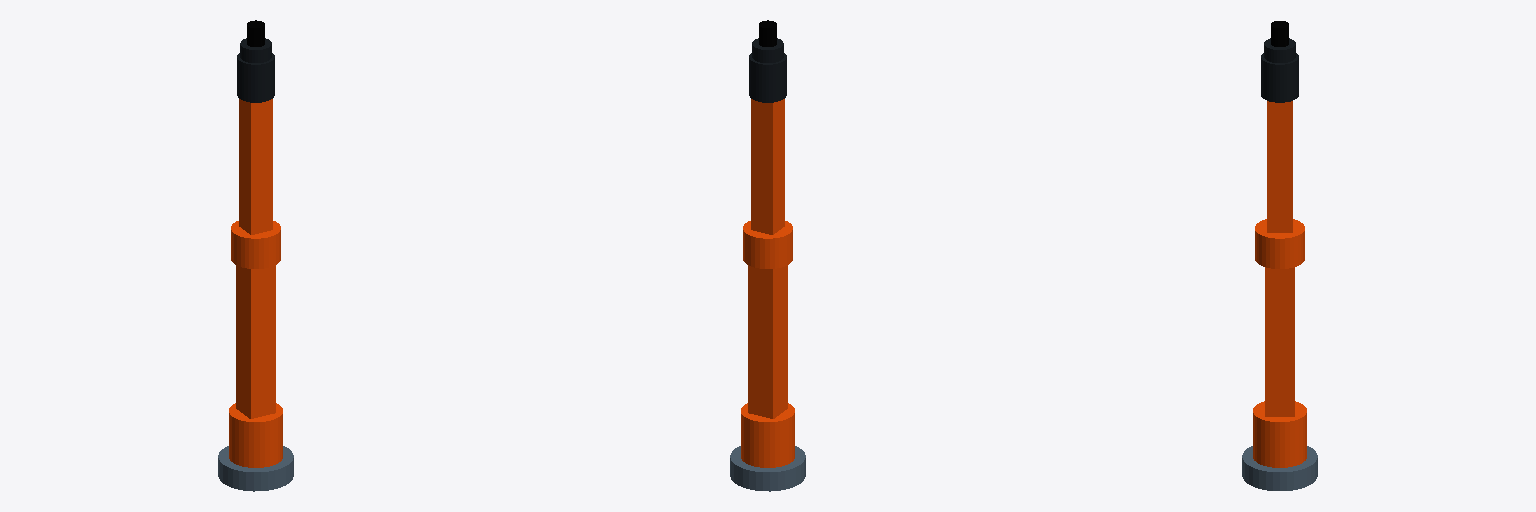
URDF robot description (robotic_arm):
<?xml version="1.0"?>

<robot name="robotic_arm">

  <!-- ========================================================= -->
  <!-- MATERIALS                                                  -->
  <!-- ========================================================= -->

  <material name="orange">
    <color rgba="0.95 0.35 0.05 1.0"/>
  </material>

  <material name="orange_dark">
    <color rgba="0.75 0.20 0.03 1.0"/>
  </material>

  <material name="yellow">
    <color rgba="0.95 0.75 0.05 1.0"/>
  </material>

  <material name="blue_gray">
    <color rgba="0.35 0.42 0.48 1.0"/>
  </material>

  <material name="dark_gray">
    <color rgba="0.12 0.14 0.16 1.0"/>
  </material>

  <material name="black">
    <color rgba="0.03 0.03 0.03 1.0"/>
  </material>


  <!-- ========================================================= -->
  <!-- BASE                                                       -->
  <!-- ========================================================= -->

  <link name="base_link">

    <visual>
      <origin xyz="0 0 0.05" rpy="0 0 0"/>
      <geometry>
        <cylinder radius="0.18" length="0.10"/>
      </geometry>
      <material name="blue_gray"/>
    </visual>

    <collision>
      <origin xyz="0 0 0.05" rpy="0 0 0"/>
      <geometry>
        <cylinder radius="0.18" length="0.10"/>
      </geometry>
    </collision>

    <inertial>
      <origin xyz="0 0 0.05" rpy="0 0 0"/>
      <mass value="5.0"/>
      <inertia
        ixx="0.05"
        ixy="0.0"
        ixz="0.0"
        iyy="0.05"
        iyz="0.0"
        izz="0.08"/>
    </inertial>

  </link>


  <!-- ========================================================= -->
  <!-- JOINT 1 - BASE YAW                                         -->
  <!-- ========================================================= -->

  <joint name="joint_1" type="revolute">

    <parent link="base_link"/>
    <child link="link_1"/>

    <origin xyz="0 0 0.10" rpy="0 0 0"/>

    <axis xyz="0 0 1"/>

    <limit
      lower="-3.14159"
      upper="3.14159"
      effort="150"
      velocity="2.0"/>

    <dynamics
      damping="0.5"
      friction="0.2"/>

  </joint>


  <!-- ========================================================= -->
  <!-- LINK 1 - LOWER ROTARY HOUSING                              -->
  <!-- ========================================================= -->

  <link name="link_1">

    <visual>
      <origin xyz="0 0 0.12" rpy="0 0 0"/>
      <geometry>
        <cylinder radius="0.13" length="0.24"/>
      </geometry>
      <material name="orange"/>
    </visual>

    <collision>
      <origin xyz="0 0 0.12" rpy="0 0 0"/>
      <geometry>
        <cylinder radius="0.13" length="0.24"/>
      </geometry>
    </collision>

    <inertial>
      <origin xyz="0 0 0.12" rpy="0 0 0"/>
      <mass value="3.5"/>
      <inertia
        ixx="0.035"
        ixy="0.0"
        ixz="0.0"
        iyy="0.035"
        iyz="0.0"
        izz="0.025"/>
    </inertial>

  </link>


  <!-- ========================================================= -->
  <!-- JOINT 2 - SHOULDER                                         -->
  <!-- ========================================================= -->

  <joint name="joint_2" type="revolute">

    <parent link="link_1"/>
    <child link="link_2"/>

    <origin xyz="0 0 0.24" rpy="0 0 0"/>

    <axis xyz="0 1 0"/>

    <limit
      lower="-2.6"
      upper="2.6"
      effort="150"
      velocity="2.0"/>

    <dynamics
      damping="0.5"
      friction="0.2"/>

  </joint>


  <!-- ========================================================= -->
  <!-- LINK 2 - LONG LOWER ARM                                    -->
  <!-- ========================================================= -->

  <link name="link_2">

    <visual>
      <origin xyz="0 0 0.40" rpy="0 0 0"/>
      <geometry>
        <box size="0.14 0.14 0.80"/>
      </geometry>
      <material name="orange"/>
    </visual>

    <collision>
      <origin xyz="0 0 0.40" rpy="0 0 0"/>
      <geometry>
        <box size="0.14 0.14 0.80"/>
      </geometry>
    </collision>

    <inertial>
      <origin xyz="0 0 0.40" rpy="0 0 0"/>
      <mass value="4.0"/>
      <inertia
        ixx="0.25"
        ixy="0.0"
        ixz="0.0"
        iyy="0.25"
        iyz="0.0"
        izz="0.015"/>
    </inertial>

  </link>


  <!-- ========================================================= -->
  <!-- JOINT 3 - ELBOW                                            -->
  <!-- ========================================================= -->

  <joint name="joint_3" type="revolute">

    <parent link="link_2"/>
    <child link="link_3"/>

    <origin xyz="0 0 0.80" rpy="0 0 0"/>

    <axis xyz="0 1 0"/>

    <limit
      lower="-2.8"
      upper="2.8"
      effort="120"
      velocity="2.5"/>

    <dynamics
      damping="0.4"
      friction="0.15"/>

  </joint>


  <!-- ========================================================= -->
  <!-- LINK 3 - ELBOW / MID ARM HOUSING                           -->
  <!-- ========================================================= -->

  <link name="link_3">

    <visual>
      <origin xyz="0 0 0.08" rpy="0 0 0"/>
      <geometry>
        <cylinder radius="0.12" length="0.16"/>
      </geometry>
      <material name="orange"/>
    </visual>

    <visual>
      <origin xyz="0 0 0.16" rpy="0 0 0"/>
      <geometry>
        <cylinder radius="0.055" length="0.025"/>
      </geometry>
      <material name="yellow"/>
    </visual>

    <collision>
      <origin xyz="0 0 0.08" rpy="0 0 0"/>
      <geometry>
        <cylinder radius="0.12" length="0.16"/>
      </geometry>
    </collision>

    <inertial>
      <origin xyz="0 0 0.08" rpy="0 0 0"/>
      <mass value="2.5"/>
      <inertia
        ixx="0.025"
        ixy="0.0"
        ixz="0.0"
        iyy="0.025"
        iyz="0.0"
        izz="0.018"/>
    </inertial>

  </link>


  <!-- ========================================================= -->
  <!-- JOINT 4 - FOREARM / WRIST ROTATION                         -->
  <!-- ========================================================= -->

  <joint name="joint_4" type="revolute">

    <parent link="link_3"/>
    <child link="link_4"/>

    <origin xyz="0 0 0.16" rpy="0 0 0"/>

    <axis xyz="1 0 0"/>

    <limit
      lower="-3.14159"
      upper="3.14159"
      effort="80"
      velocity="3.0"/>

    <dynamics
      damping="0.3"
      friction="0.1"/>

  </joint>


  <!-- ========================================================= -->
  <!-- LINK 4 - LONG UPPER ARM                                    -->
  <!-- ========================================================= -->

  <link name="link_4">

    <visual>
      <origin xyz="0 0 0.35" rpy="0 0 0"/>
      <geometry>
        <box size="0.12 0.12 0.70"/>
      </geometry>
      <material name="orange"/>
    </visual>

    <collision>
      <origin xyz="0 0 0.35" rpy="0 0 0"/>
      <geometry>
        <box size="0.12 0.12 0.70"/>
      </geometry>
    </collision>

    <inertial>
      <origin xyz="0 0 0.35" rpy="0 0 0"/>
      <mass value="3.0"/>
      <inertia
        ixx="0.125"
        ixy="0.0"
        ixz="0.0"
        iyy="0.125"
        iyz="0.0"
        izz="0.012"/>
    </inertial>

  </link>


  <!-- ========================================================= -->
  <!-- JOINT 5 - WRIST PITCH                                      -->
  <!-- ========================================================= -->

  <joint name="joint_5" type="revolute">

    <parent link="link_4"/>
    <child link="link_5"/>

    <origin xyz="0 0 0.70" rpy="0 0 0"/>

    <axis xyz="0 1 0"/>

    <limit
      lower="-2.5"
      upper="2.5"
      effort="50"
      velocity="3.0"/>

    <dynamics
      damping="0.2"
      friction="0.08"/>

  </joint>


  <!-- ========================================================= -->
  <!-- LINK 5 - WRIST HOUSING                                     -->
  <!-- ========================================================= -->

  <link name="link_5">

    <visual>
      <origin xyz="0 0 0.10" rpy="0 0 0"/>
      <geometry>
        <cylinder radius="0.09" length="0.20"/>
      </geometry>
      <material name="dark_gray"/>
    </visual>

    <collision>
      <origin xyz="0 0 0.10" rpy="0 0 0"/>
      <geometry>
        <cylinder radius="0.09" length="0.20"/>
      </geometry>
    </collision>

    <inertial>
      <origin xyz="0 0 0.10" rpy="0 0 0"/>
      <mass value="1.5"/>
      <inertia
        ixx="0.008"
        ixy="0.0"
        ixz="0.0"
        iyy="0.008"
        iyz="0.0"
        izz="0.006"/>
    </inertial>

  </link>


  <!-- ========================================================= -->
  <!-- JOINT 6 - TOOL ROLL                                        -->
  <!-- ========================================================= -->

  <joint name="joint_6" type="revolute">

    <parent link="link_5"/>
    <child link="tool0"/>

    <origin xyz="0 0 0.20" rpy="0 0 0"/>

    <axis xyz="0 1 0"/>

    <limit
      lower="-3.14159"
      upper="3.14159"
      effort="30"
      velocity="4.0"/>

    <dynamics
      damping="0.15"
      friction="0.05"/>

  </joint>


  <!-- ========================================================= -->
  <!-- TOOL / END EFFECTOR                                        -->
  <!-- ========================================================= -->

  <link name="tool0">

    <!-- Main flange -->
    <visual>
      <origin xyz="0 0 0.035" rpy="0 0 0"/>
      <geometry>
        <cylinder radius="0.075" length="0.07"/>
      </geometry>
      <material name="dark_gray"/>
    </visual>

    <!-- Tool housing -->
    <visual>
      <origin xyz="0 0 0.12" rpy="0 0 0"/>
      <geometry>
        <cylinder radius="0.045" length="0.10"/>
      </geometry>
      <material name="black"/>
    </visual>

    <collision>
      <origin xyz="0 0 0.035" rpy="0 0 0"/>
      <geometry>
        <cylinder radius="0.075" length="0.07"/>
      </geometry>
    </collision>

    <collision>
      <origin xyz="0 0 0.12" rpy="0 0 0"/>
      <geometry>
        <cylinder radius="0.045" length="0.10"/>
      </geometry>
    </collision>

    <inertial>
      <origin xyz="0 0 0.08" rpy="0 0 0"/>
      <mass value="0.6"/>
      <inertia
        ixx="0.002"
        ixy="0.0"
        ixz="0.0"
        iyy="0.002"
        iyz="0.0"
        izz="0.001"/>
    </inertial>

  </link>

</robot>

--- Render facts (derived) ---
The picture shows the robot from 3 angles, left to right: view 1: azimuth 30°, elevation 25°; view 2: azimuth 150°, elevation 25°; view 3: azimuth 270°, elevation 25°; orthographic projection.
Robot: robotic_arm — 7 links, 6 joints (6 revolute); root link base_link; default pose: all joints at 0.
Visible links, largest first — view 1: link_2, link_4, link_1, base_link, link_3, link_5, tool0; view 2: link_2, link_4, link_1, base_link, link_3, link_5, tool0; view 3: link_2, link_4, link_1, base_link, link_3, link_5, tool0.
Link boxes in pixels (x1,y1,x2,y2): link_2: [236, 265, 275, 418]; link_4: [239, 99, 272, 234]; link_1: [229, 403, 282, 467]; base_link: [218, 446, 293, 491]; link_3: [231, 221, 280, 268]; link_5: [237, 53, 274, 102]; tool0: [240, 20, 271, 62]; link_2: [748, 265, 787, 418]; link_4: [751, 99, 784, 234]; link_1: [741, 403, 794, 467]; base_link: [730, 446, 805, 491]; link_3: [743, 221, 792, 268]; link_5: [749, 53, 786, 102]; tool0: [752, 20, 783, 62]; link_2: [1265, 267, 1294, 416]; link_4: [1267, 101, 1292, 232]; link_1: [1253, 401, 1306, 467]; base_link: [1242, 446, 1317, 490]; link_3: [1255, 219, 1304, 268]; link_5: [1261, 53, 1298, 102]; tool0: [1264, 21, 1295, 62].
Bounding box of the posed robot: 0.36 × 0.36 × 2.37 m (x, y, z).
Geometry: primitives only (box / cylinder / sphere), no mesh files.
